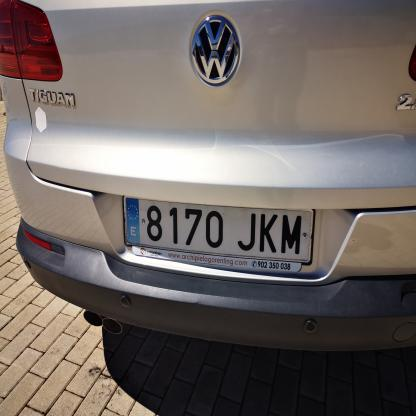patente: (125, 192, 316, 263)
